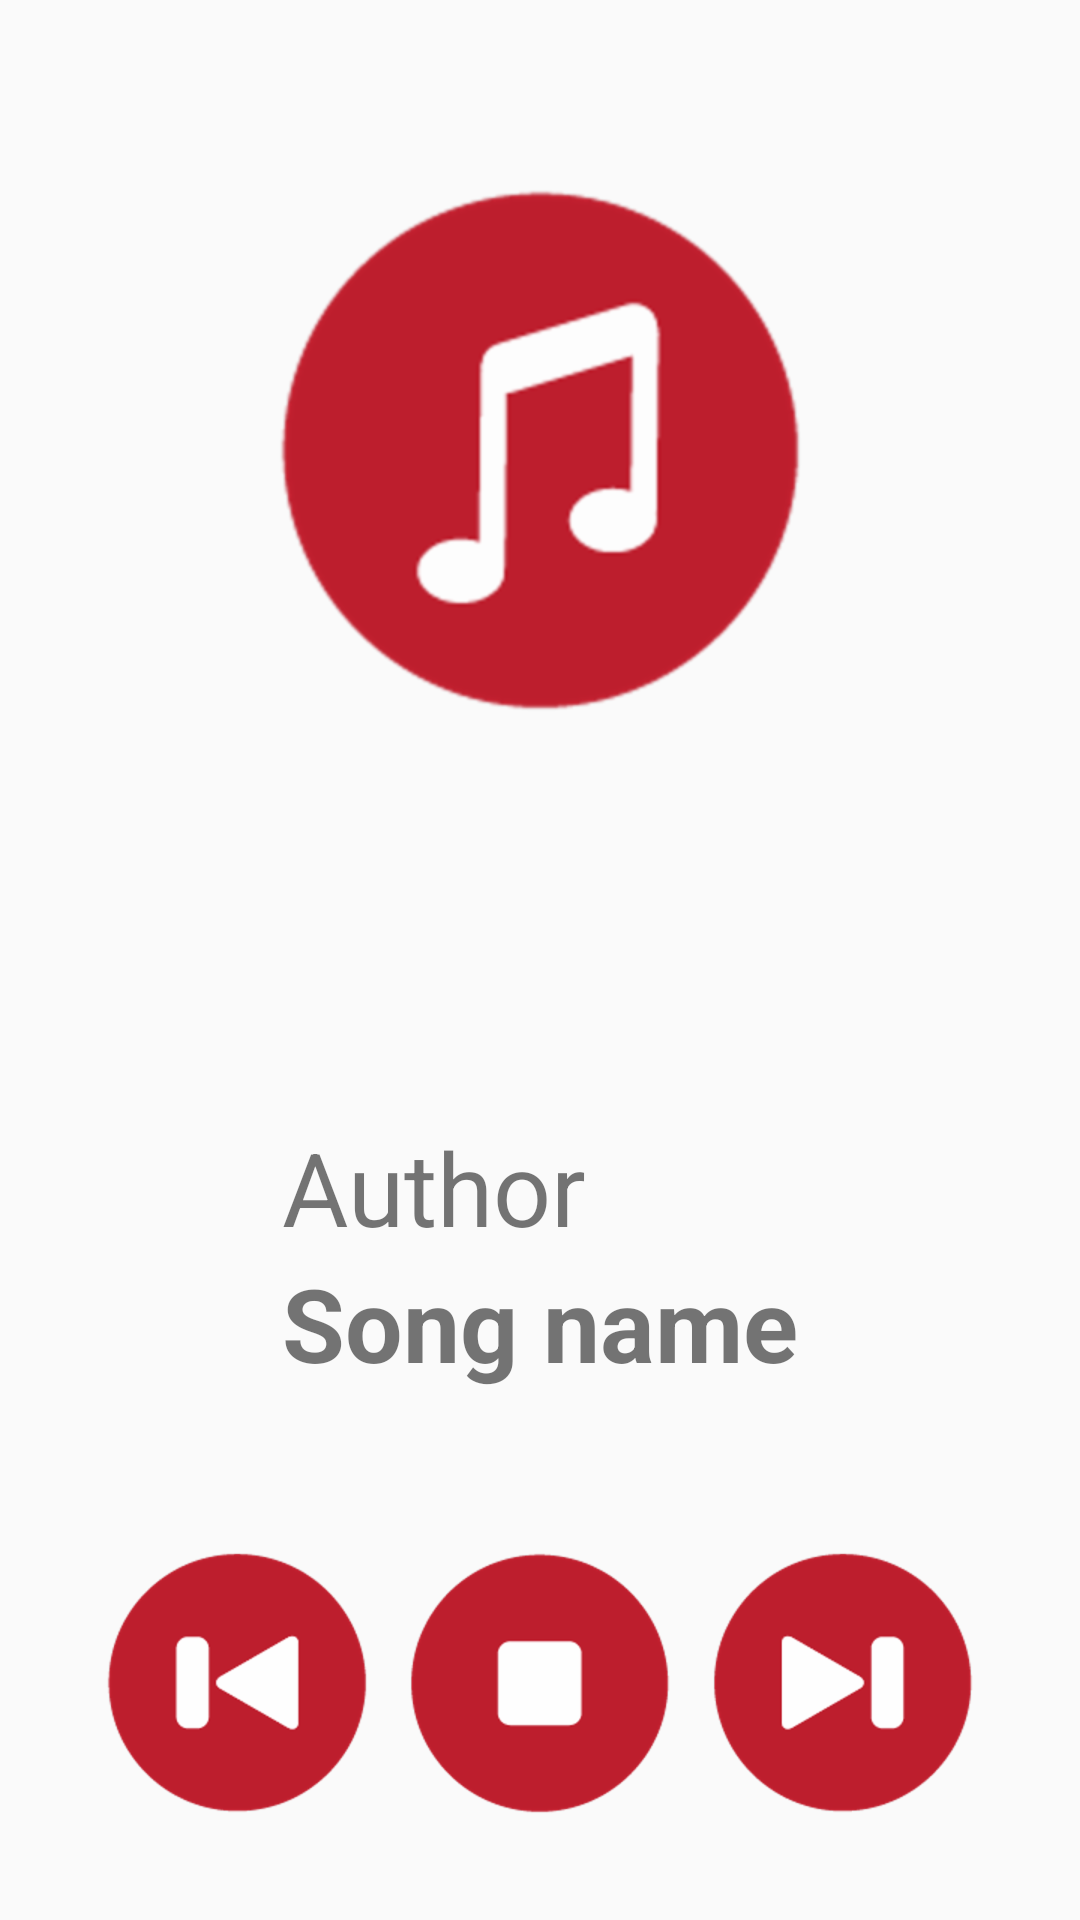

Where to tap for icons on this 1080 x 1920 app screen, as (x,y):
Next: (843,1682)
Previous: (237,1682)
